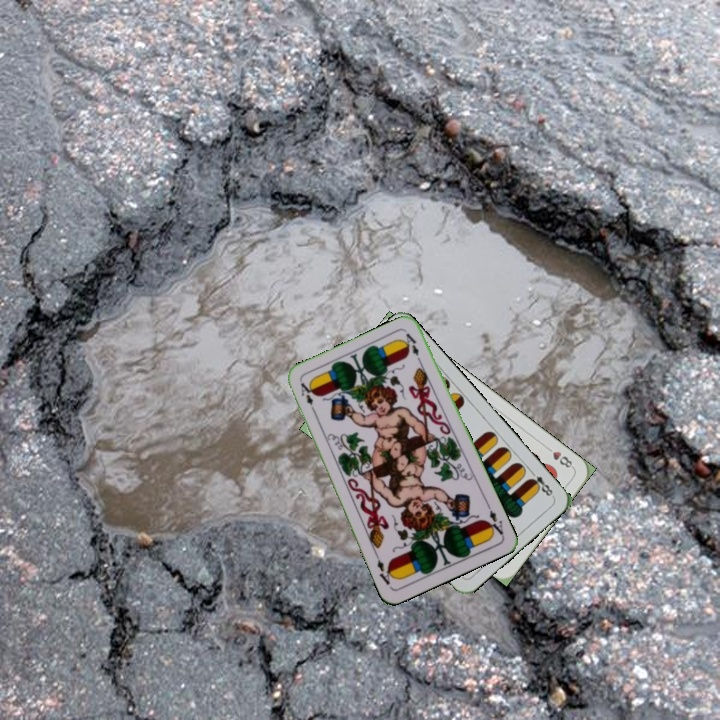E8: (525, 466, 556, 499)
EA: (482, 500, 506, 538), (297, 378, 319, 417)
H8: (541, 442, 576, 471)
